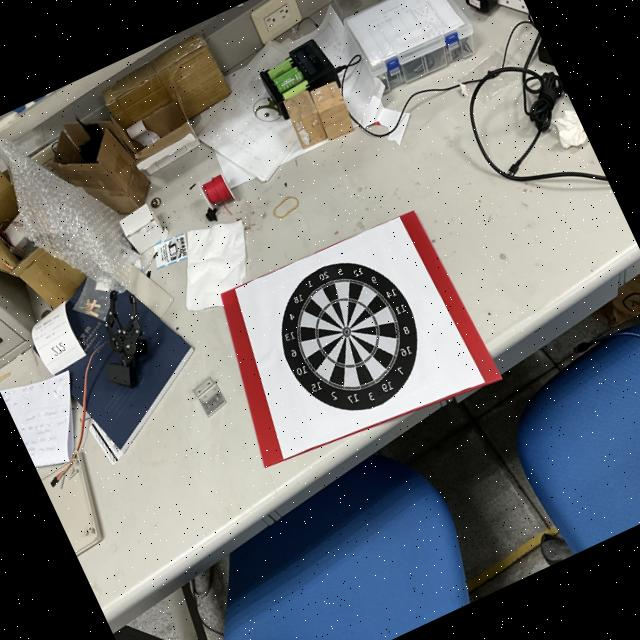archery-targets: (254, 237, 446, 438)
